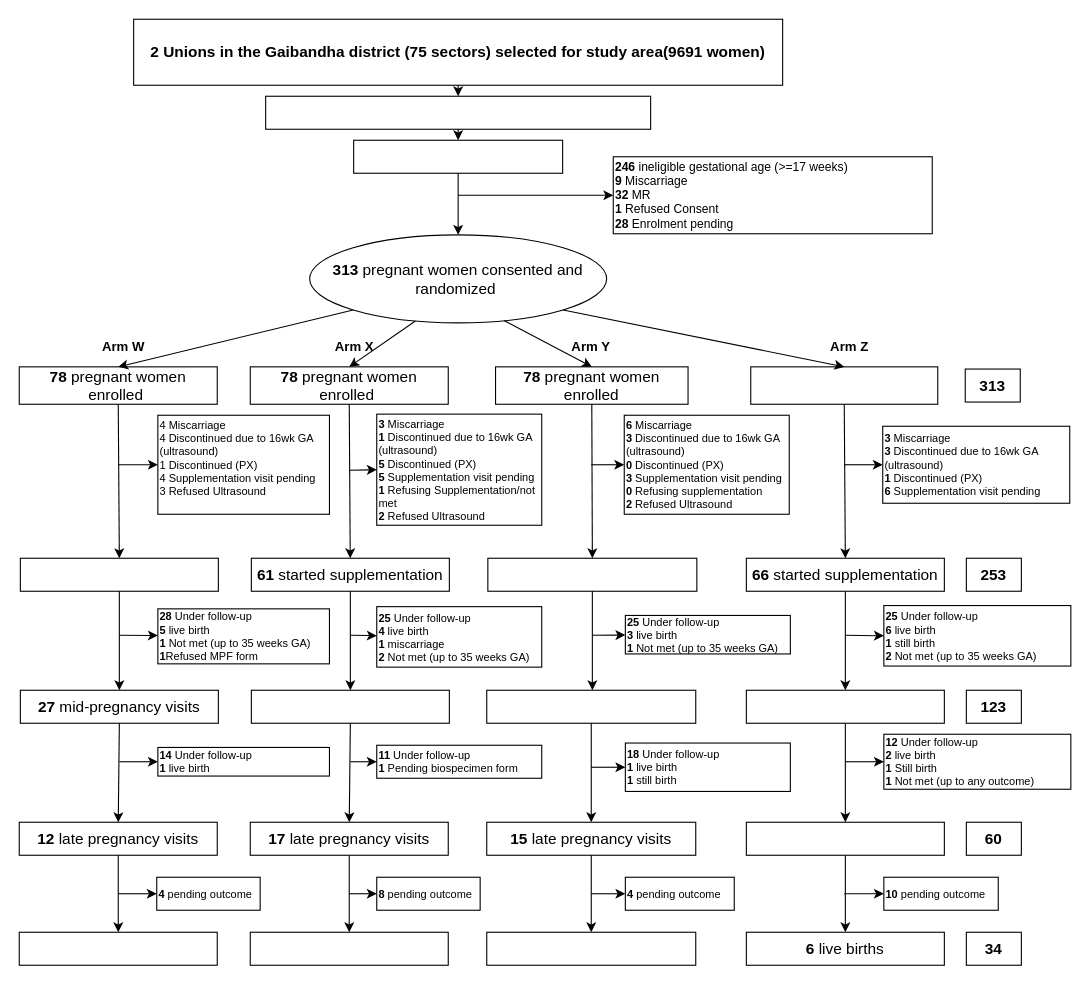
The diagram is 1090 pixels wide and 985 high, and some of its shapes have lost their labels. The shapes that lost their labels are listed below. From the top down, each one's centre as x and y in pixels, then its label:
[458,112]: 3991 women eligible for pregnancy surveilance
[458,156]: 629 pregnancies detected
[844,385]: 79 pregnant women enrolled
[118,574]: 62 started supplementation
[592,574]: 64 started supplementation
[349,706]: 29 mid-pregnancy visits
[591,706]: 35 mid-pregnancy visits
[844,706]: 32 mid-pregnancy visits
[844,838]: 16 late pregnancy visits
[117,948]: 8 live births
[348,948]: 9 live births
[591,948]: 11 live births
